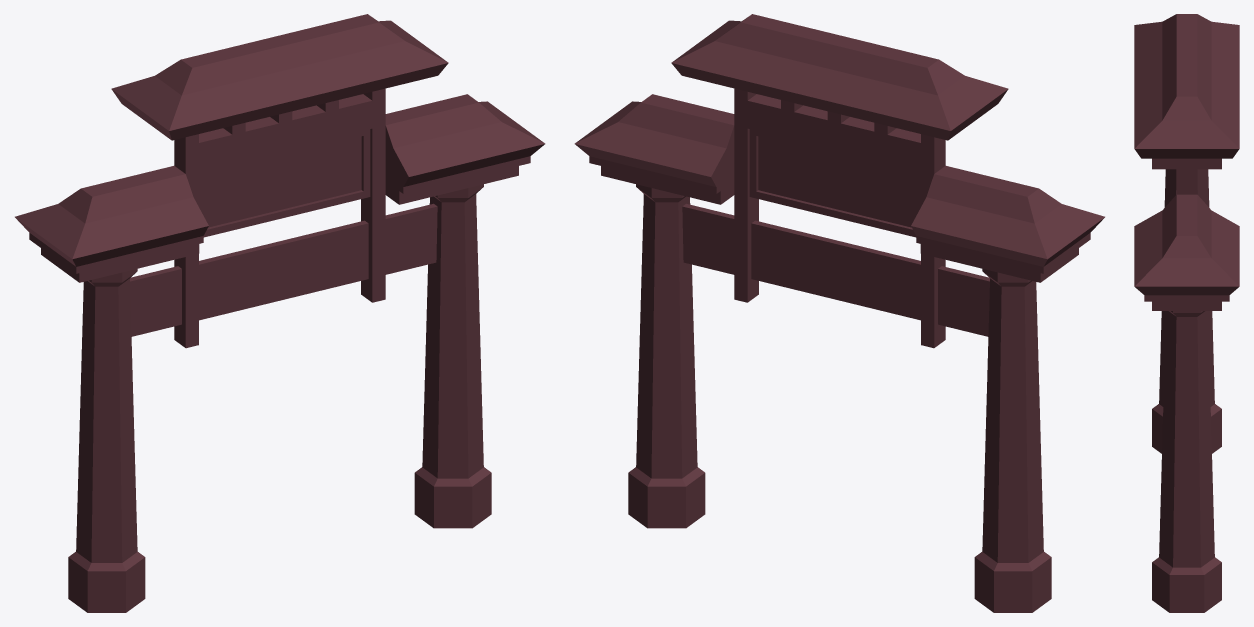
File: buildings-gate-china.glb
3 views of the same model, side by side, from view 1: azimuth 30°, elevation 25°; view 2: azimuth 150°, elevation 25°; view 3: azimuth 270°, elevation 25° (orthographic). The views are drawn at different scales.
Parts seen in each view (by area): view 1: gate-china; view 2: gate-china; view 3: gate-china.
Part boxes in pixels (<box>): gate-china: <box>15,14,545,612</box>; gate-china: <box>574,14,1104,612</box>; gate-china: <box>1134,14,1239,612</box>.
Size of the model in its own units: 7.11 by 7.4 by 1.51.
